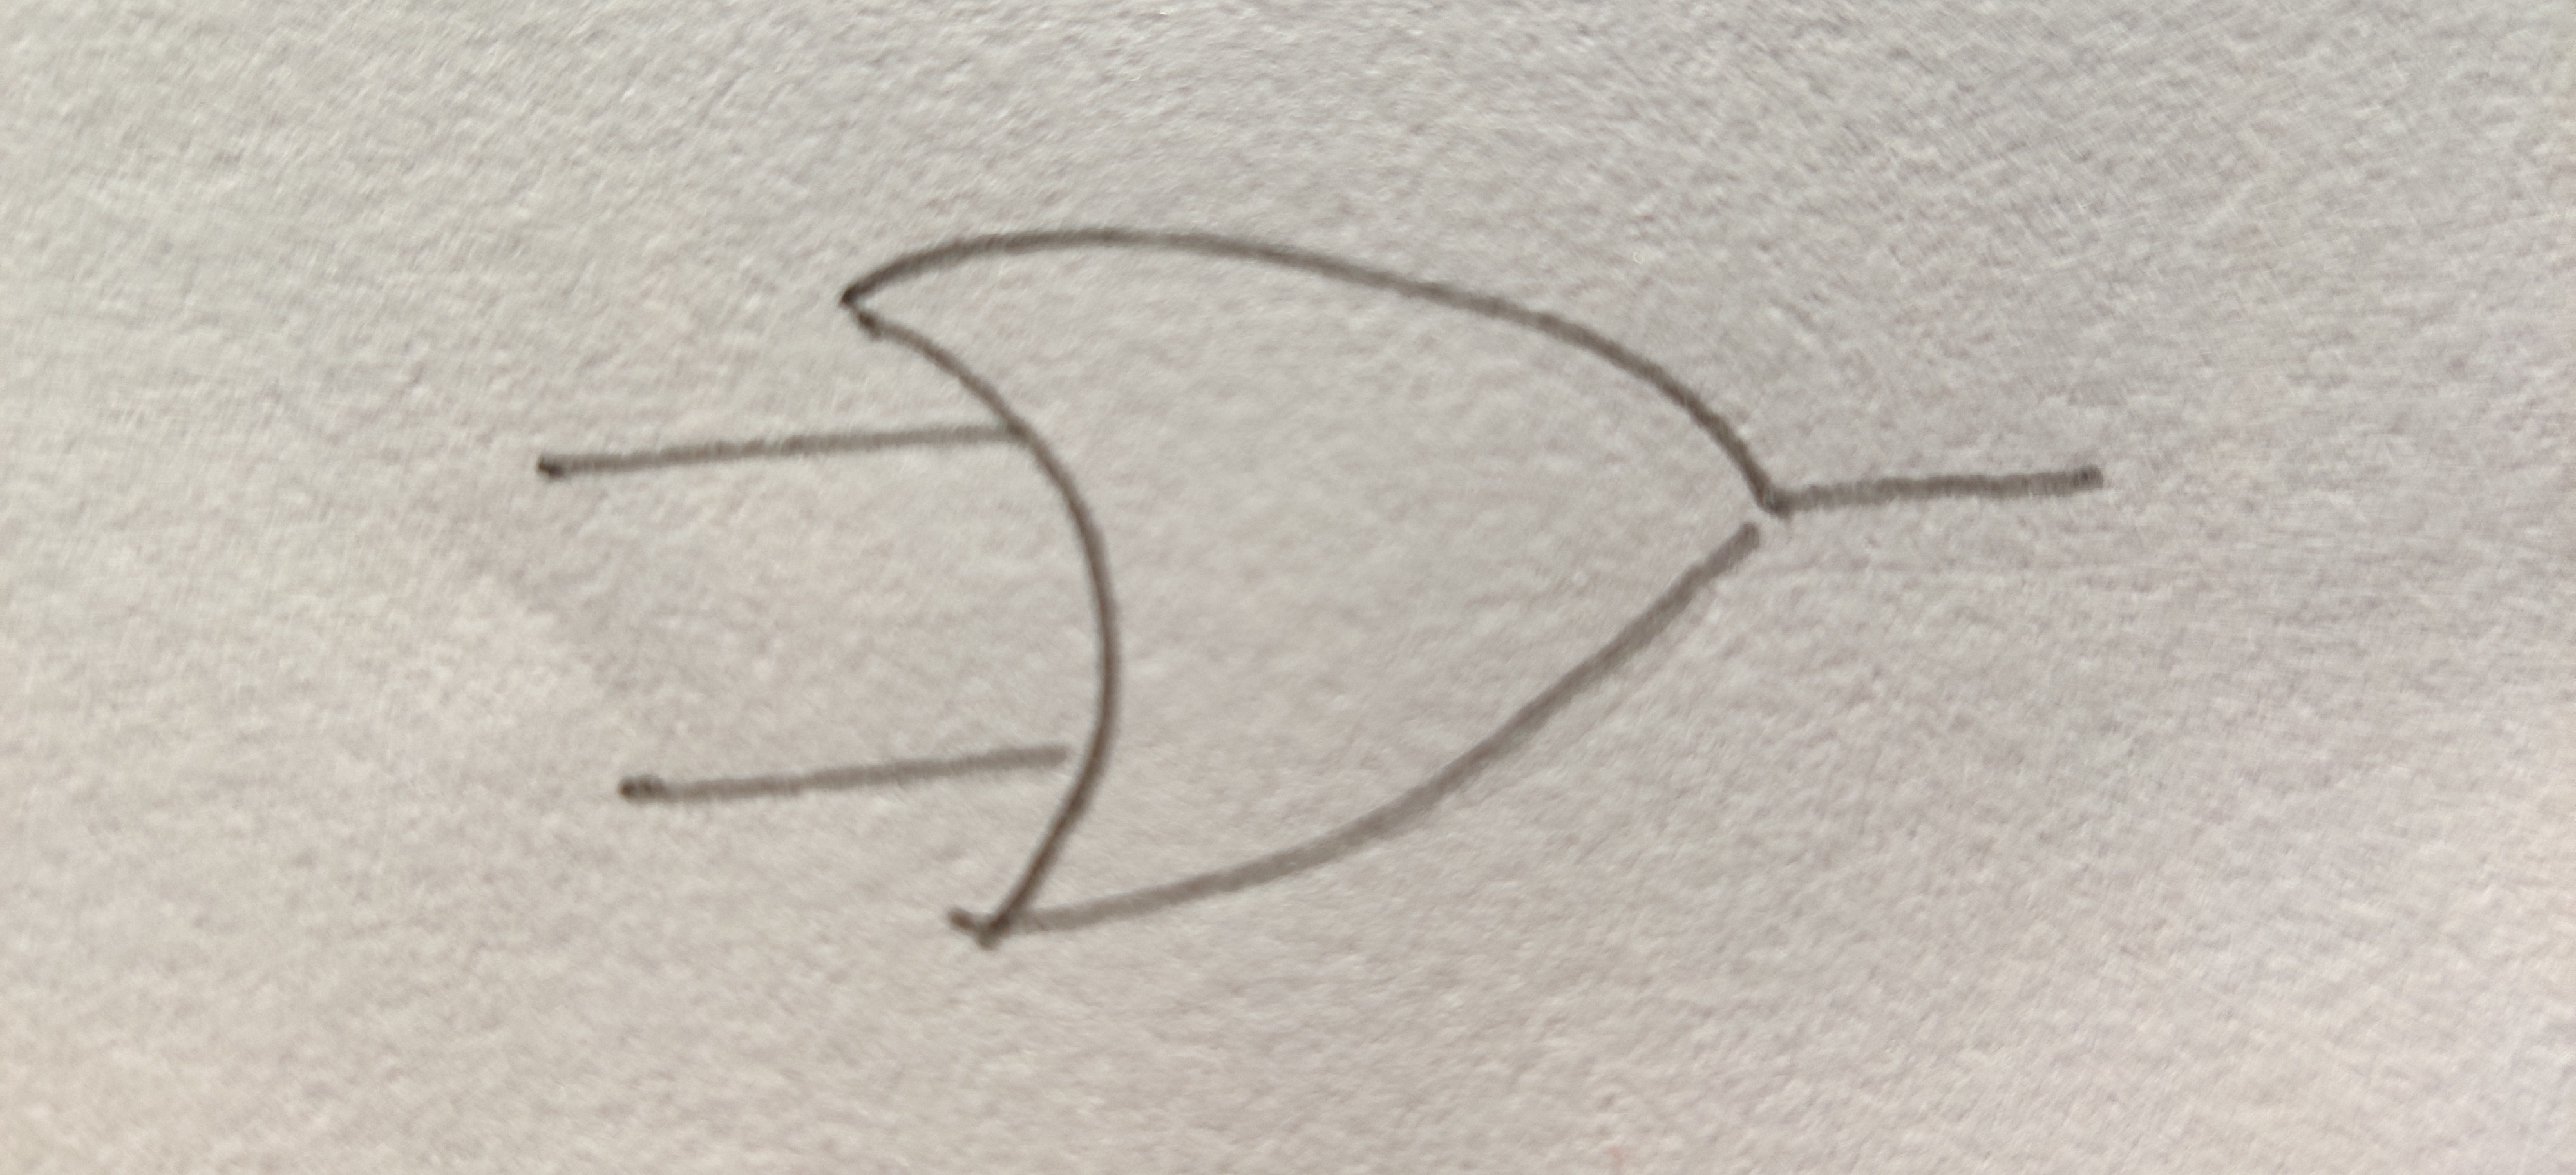or: (851, 228, 1773, 933)
